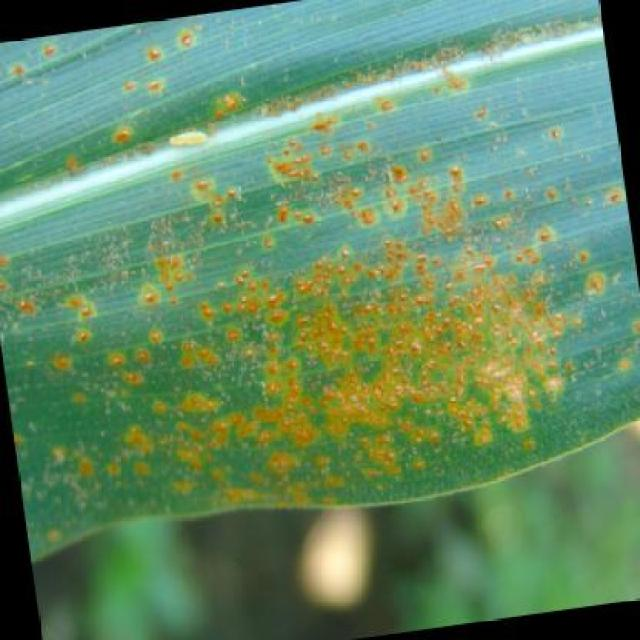Corn_Rust: (49, 32, 597, 538)
